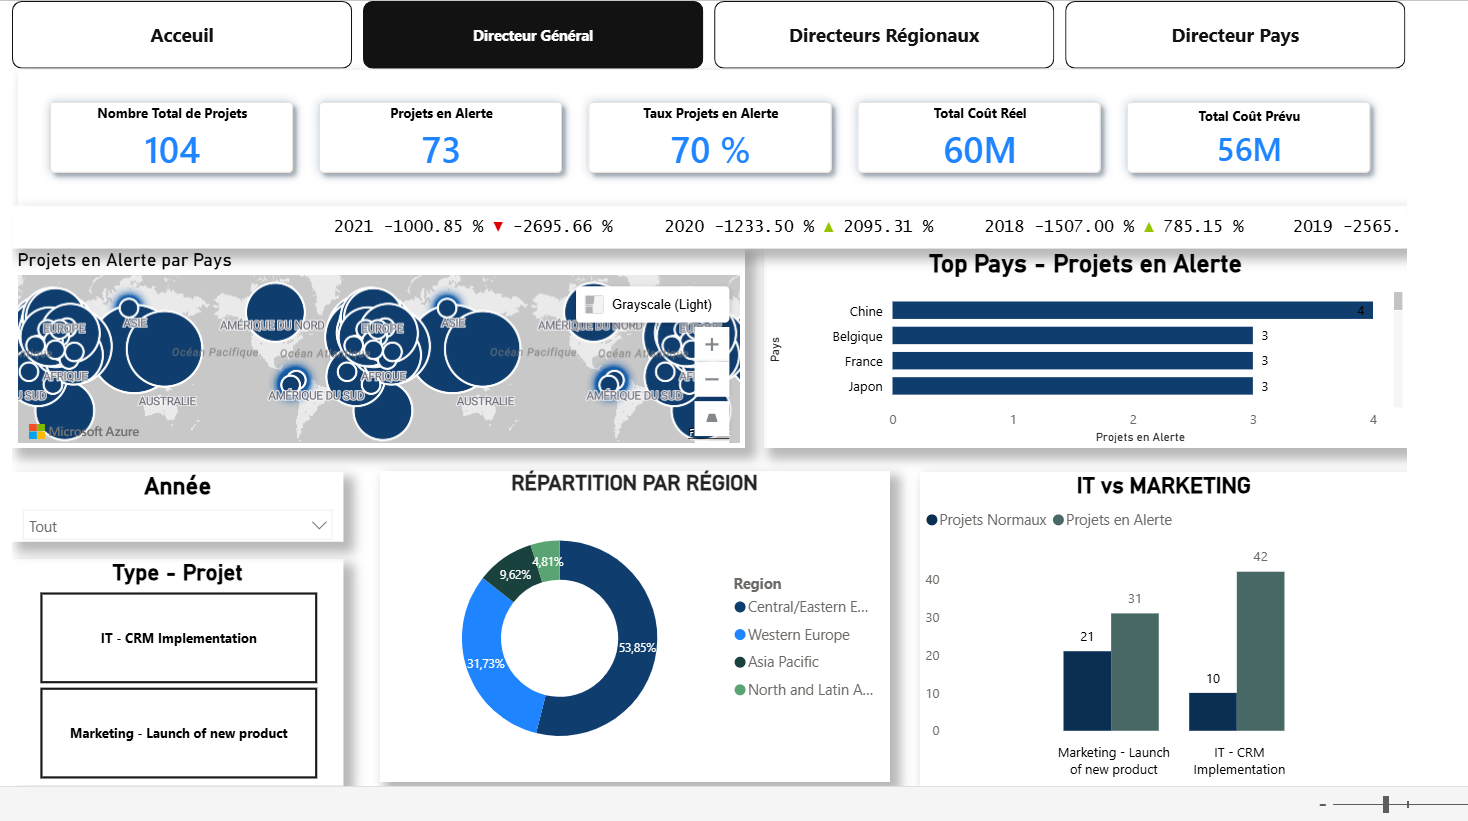

This screenshot's page, from the dashboard's own definition file:
{"tool":"powerbi","page":{"name":"Directeur Général","canvas":[1280,720],"ordinal":1},"visuals":[{"type":"cardVisual","fields":{"Data":["Mesures.Nombre Total de Projets","Mesures.Projets en Alerte","Mesures.Taux Projets en Alerte (%)","Mesures.Total Coût Réel","Mesures.Total Coût Prévu"]},"box":[0,64,1280,112],"z":0},{"type":"barChart","title":"Top Pays - Projets en Alerte","fields":{"Category":["Projet_Table_Final.Pays"],"Y":["Mesures.Projets en Alerte"]},"box":[689.2,226.7,590.7,183.5],"z":1000},{"type":"ScrollingTextVisual1448795304508","fields":{"Measure Absolute":["Mesures.Écart Durée (%)"],"Measure Deviation":["Mesures.Écart Coût (%)"],"Category":["Calendrier.Année"]},"box":[0,186.5,1279.9,40.3],"z":2000},{"type":"actionButton","box":[0,0,100,40],"z":3000},{"type":"donutChart","title":"RÉPARTITION PAR RÉGION","fields":{"Category":["Projet_Table_Final.Region"],"Y":["Mesures.Nombre Total de Projets"]},"box":[337.1,430,467.8,285.1],"z":4000},{"type":"clusteredColumnChart","title":"IT vs MARKETING","fields":{"Category":["Projet_Table_Final.Type Projet"],"Y":["Mesures.Projets Normaux","Mesures.Projets en Alerte"]},"box":[832,432,448,288],"z":5000},{"type":"slicer","title":"Type - Projet","fields":{"Values":["Projet_Table_Final.Type Projet"]},"box":[0,512,304,208],"z":6000},{"type":"slicer","title":"Année","fields":{"Values":["Calendrier.Année"]},"box":[0,432,304,64],"z":7000},{"type":"pageNavigator","box":[0,0,1280,48],"z":8000},{"type":"azureMap","fields":{"Category":["Projet_Table_Final.Pays"],"Size":["Mesures.Projets en Alerte"]},"box":[0,227,689,183],"z":9000}]}

Visuals, with their boxes in screenshot pixels (x1, y1, x2, y2), scaled from the page's 1280x720 canvas onto the 1468x821 screenshot:
cardVisual - Mesures.Nombre Total de Projets x Mesures.Projets en Alerte: left=0, top=73, right=1467, bottom=201
"Top Pays - Projets en Alerte" barChart: left=790, top=259, right=1467, bottom=468
ScrollingTextVisual1448795304508 - Mesures.Écart Durée (%) x Mesures.Écart Coût (%): left=0, top=213, right=1467, bottom=259
actionButton: left=0, top=0, right=115, bottom=46
"RÉPARTITION PAR RÉGION" donutChart: left=387, top=490, right=923, bottom=815
"IT vs MARKETING" clusteredColumnChart: left=954, top=493, right=1467, bottom=820
"Type - Projet" slicer: left=0, top=584, right=349, bottom=820
"Année" slicer: left=0, top=493, right=349, bottom=566
pageNavigator: left=0, top=0, right=1467, bottom=55
azureMap - Projet_Table_Final.Pays x Mesures.Projets en Alerte: left=0, top=259, right=790, bottom=468
